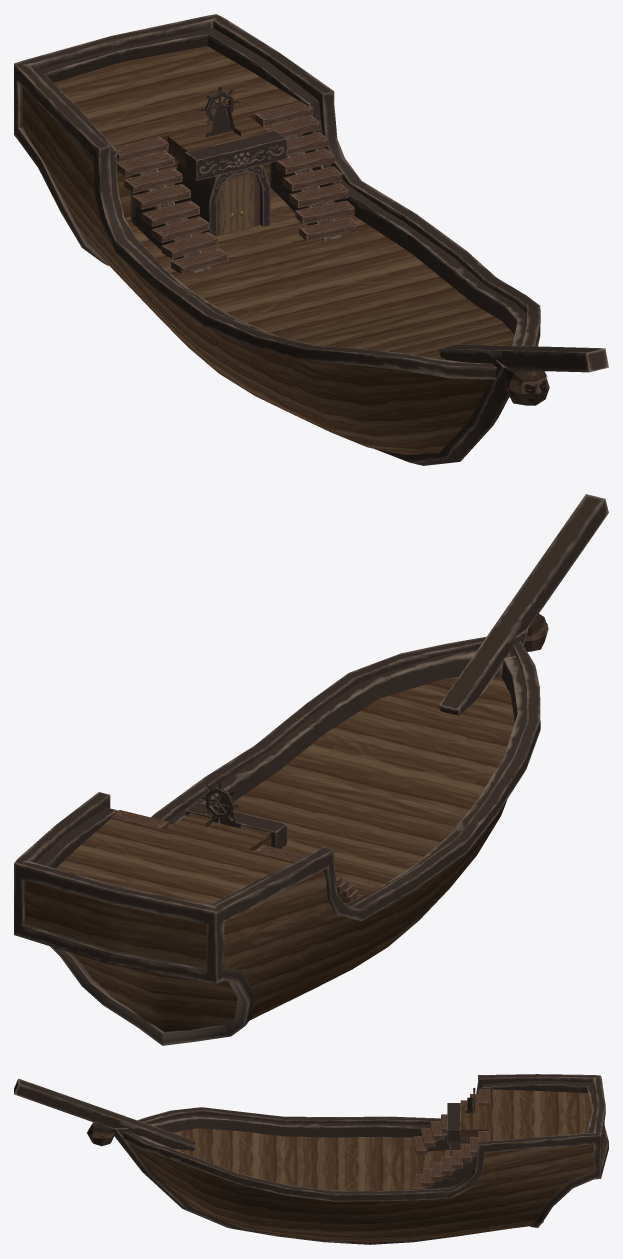
Rendered from Ship.fbx.
The picture shows the model from 3 angles, top to bottom: view 1: azimuth 30°, elevation 25°; view 2: azimuth 150°, elevation 25°; view 3: azimuth 270°, elevation 25°; orthographic projection. The views are drawn at different scales.
Visible parts, largest first — view 1: Cube; view 2: Cube; view 3: Cube.
Part boxes in pixels (left/top/right/bottom): Cube: left=14, top=14, right=608, bottom=465; Cube: left=14, top=494, right=608, bottom=1045; Cube: left=14, top=1074, right=608, bottom=1244.
Bounding box in the file's own units: 1065 × 1045 × 3450.
